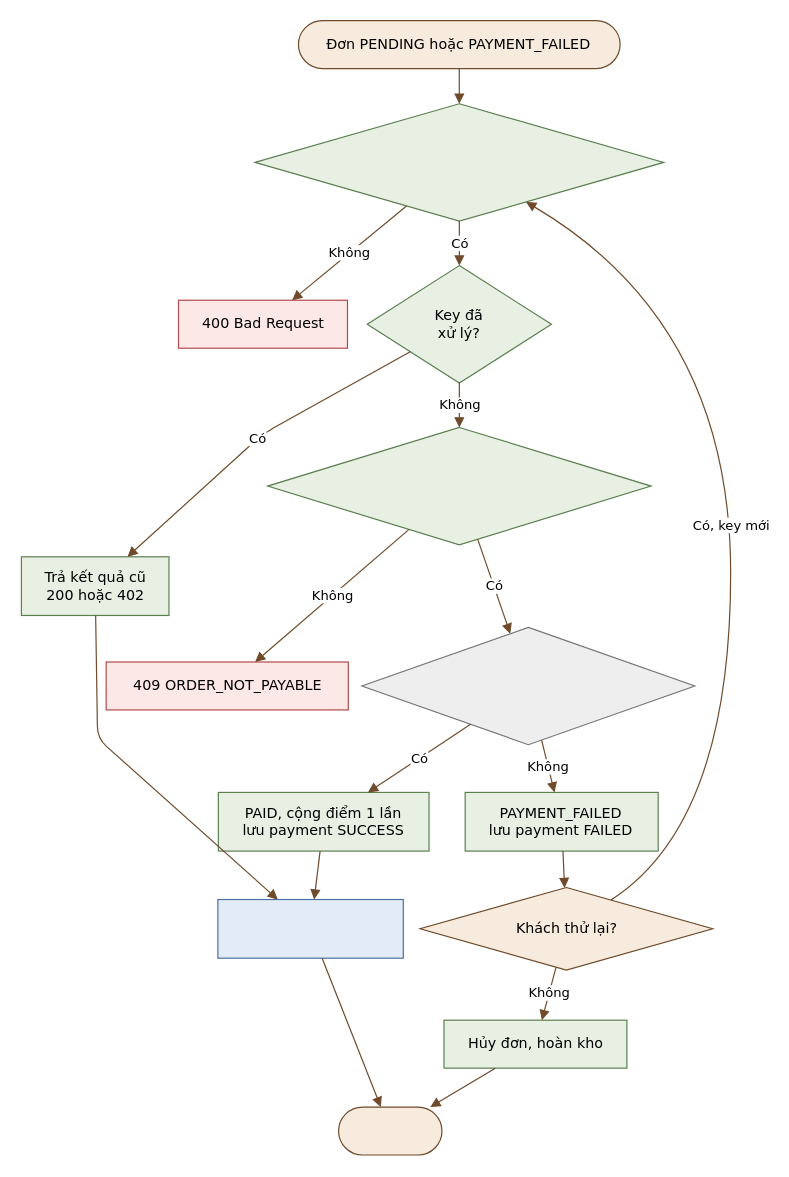
This 789x1177 diagram has some shape labels left out. The centre of each missing label's shape, as x and y in pixels:
Cổng thanh toán chấp nhận?: the point at 528,685
Frontend: xóa giỏ, màn hình xác nhận: the point at 310,928
Khóa dòng đơn: còn thanh toán được?: the point at 458,485
Kết thúc: the point at 389,1130
POST /payments có Idempotency-Key?: the point at 459,162
